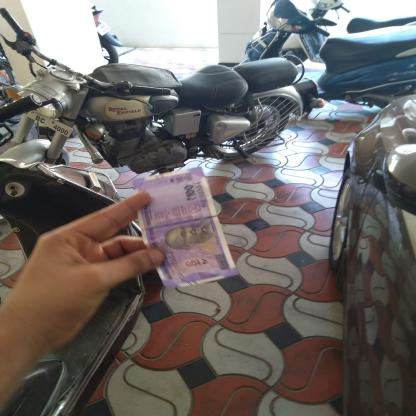New100Front: (138, 176, 225, 284)
